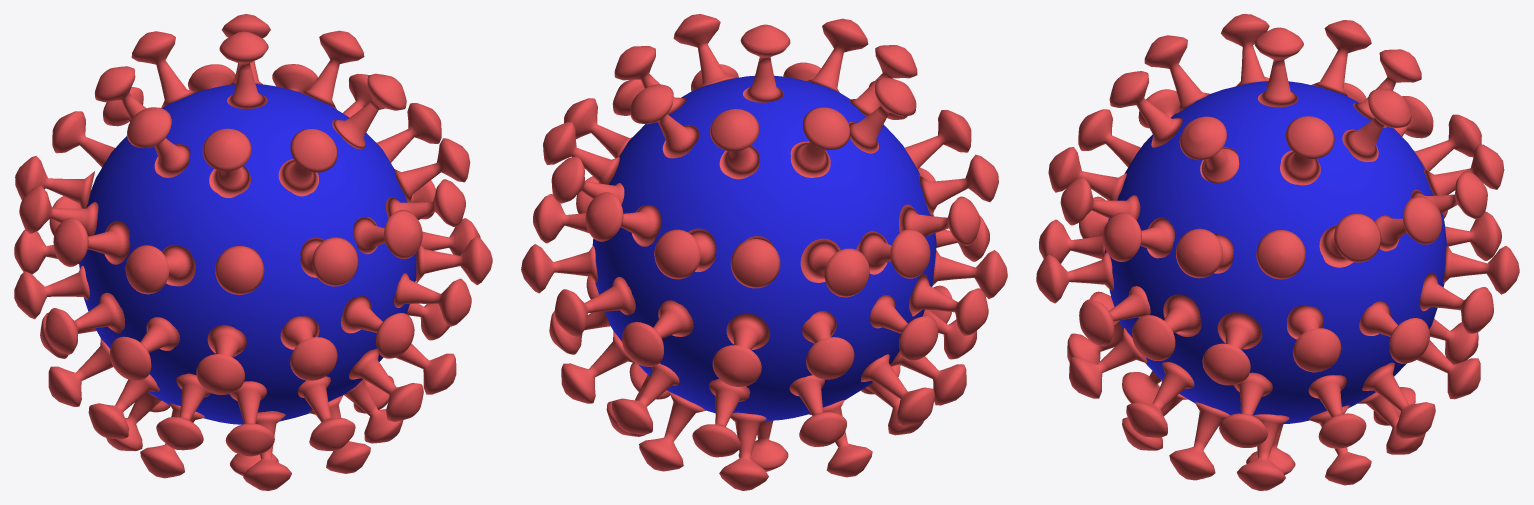
File: CORONA.fbx
The picture shows the model from 3 angles, left to right: view 1: azimuth 30°, elevation 25°; view 2: azimuth 150°, elevation 25°; view 3: azimuth 270°, elevation 25°; orthographic projection.
Parts seen in each view (by area): view 1: Sphere, Cylinder.010, Cylinder.022, Cylinder.023, Cylinder.011, Cylinder.034, Cylinder.035, Cylinder.021, Cylinder.036, Cylinder.033, Cylinder.032, Cylinder.007 (+36 smaller); view 2: Sphere, Cylinder.013, Cylinder.027, Cylinder.020, Cylinder.019, Cylinder.002, Cylinder.028, Cylinder.012, Cylinder.001, Cylinder.018, Cylinder.026, Cylinder.029 (+33 smaller); view 3: Sphere, Cylinder.038, Cylinder.052, Cylinder.017, Cylinder.016, Cylinder.031, Cylinder.006, Cylinder.004, Cylinder.018, Cylinder.030, Cylinder.050, Cylinder.051 (+37 smaller).
Boxes of the visible parts, <box> form: Sphere: <box>79,84,416,424</box>; Cylinder.010: <box>125,245,195,294</box>; Cylinder.022: <box>202,128,251,197</box>; Cylinder.023: <box>278,128,337,196</box>; Cylinder.011: <box>53,217,130,266</box>; Cylinder.034: <box>196,325,246,394</box>; Cylinder.035: <box>280,316,337,380</box>; Cylinder.021: <box>127,107,190,177</box>; Cylinder.036: <box>340,296,414,358</box>; Cylinder.033: <box>110,317,179,380</box>; Cylinder.032: <box>45,292,124,354</box>; Cylinder.007: <box>353,210,422,258</box>; Sphere: <box>592,75,936,420</box>; Cylinder.013: <box>800,238,869,297</box>; Cylinder.027: <box>712,313,769,386</box>; Cylinder.020: <box>790,107,850,177</box>; Cylinder.019: <box>710,109,759,179</box>; Cylinder.002: <box>585,192,661,246</box>; Cylinder.028: <box>622,300,693,366</box>; Cylinder.012: <box>856,229,930,278</box>; Cylinder.001: <box>654,228,716,279</box>; Cylinder.018: <box>630,84,699,158</box>; Cylinder.026: <box>802,311,854,379</box>; Cylinder.029: <box>554,277,635,336</box>; Sphere: <box>1104,81,1446,424</box>; Cylinder.038: <box>1202,312,1262,385</box>; Cylinder.052: <box>1132,294,1201,360</box>; Cylinder.017: <box>1280,116,1334,185</box>; Cylinder.016: <box>1179,116,1239,183</box>; Cylinder.031: <box>1287,305,1341,372</box>; Cylinder.006: <box>1103,212,1174,261</box>; Cylinder.004: <box>1319,213,1381,267</box>; Cylinder.018: <box>1342,88,1411,162</box>; Cylinder.030: <box>1359,301,1429,363</box>; Cylinder.050: <box>1308,375,1366,448</box>; Cylinder.051: <box>1219,372,1272,447</box>.
Bounding box in the file's own units: 420 × 427 × 421.
